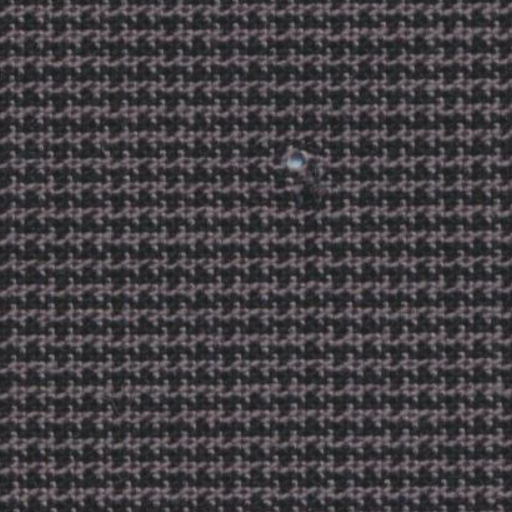PoDong: (250, 115, 354, 210)
